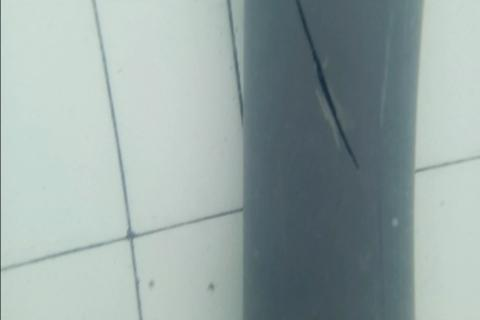keretakan: (292, 0, 361, 173)
